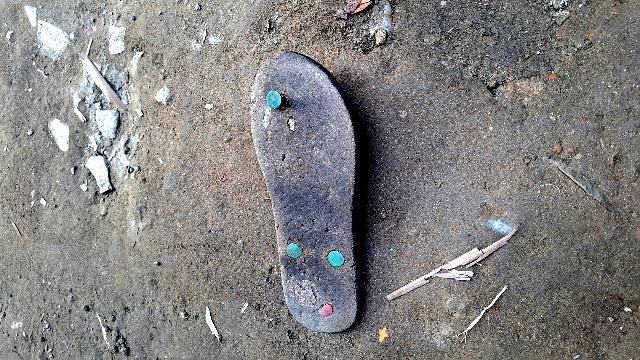sandal: (245, 52, 375, 335)
